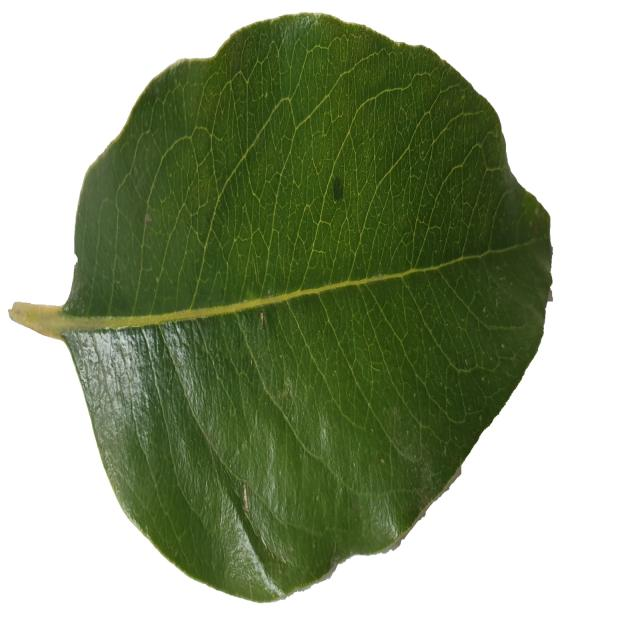Medicinal-Sandalwood: (10, 12, 553, 602)
